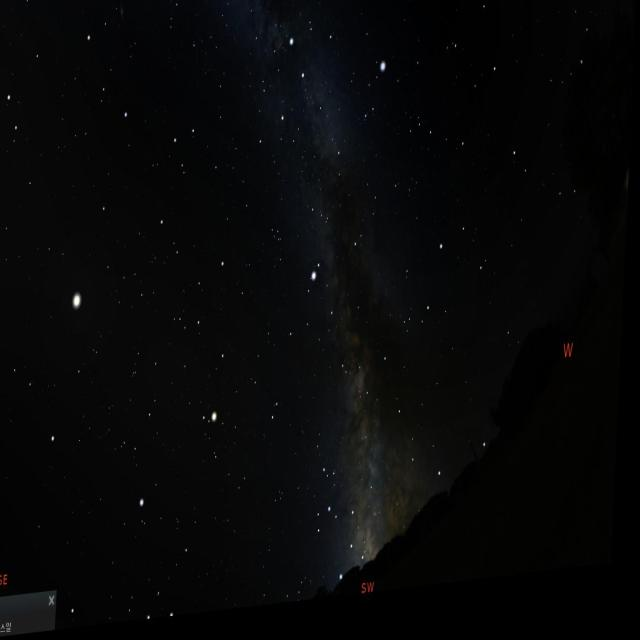aquila: (294, 260, 369, 400)
cygnus: (274, 30, 352, 219)
lyra: (359, 65, 390, 146)
sagittarius: (318, 501, 370, 605)
